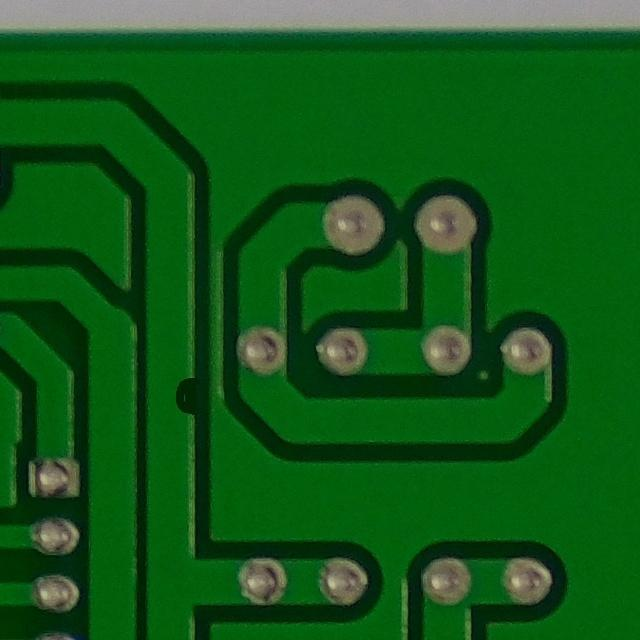mouse_bite: (154, 357, 210, 435)
